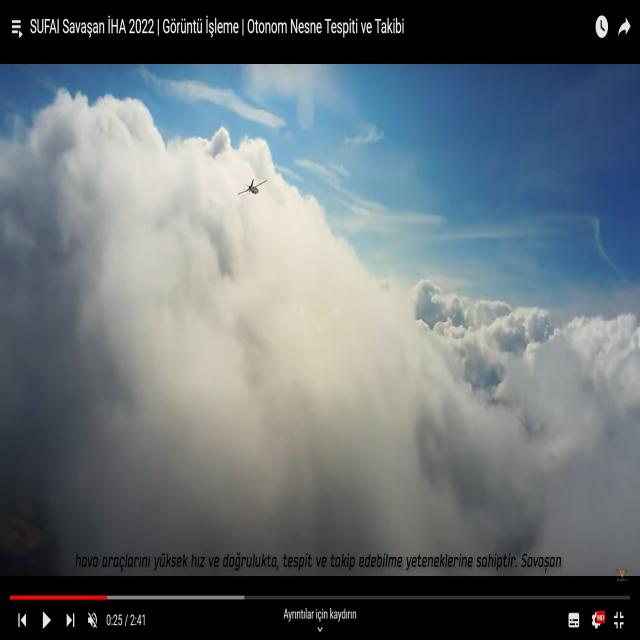iha: (236, 176, 268, 195)
